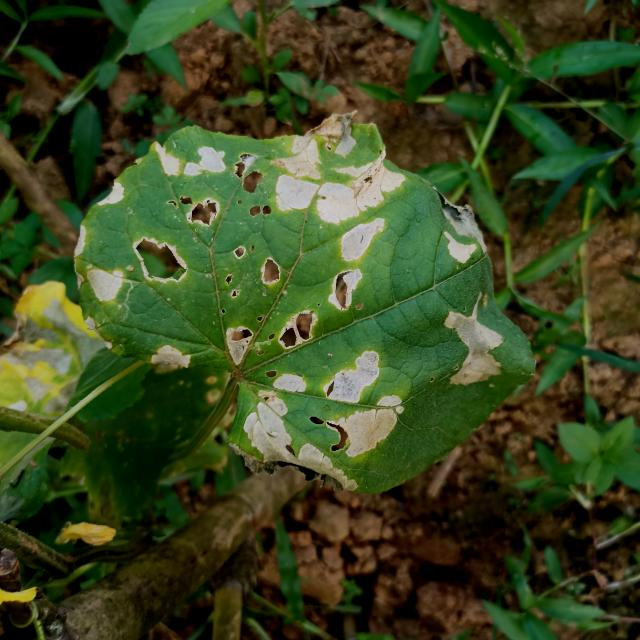disease_cucumber: (87, 144, 508, 484)
